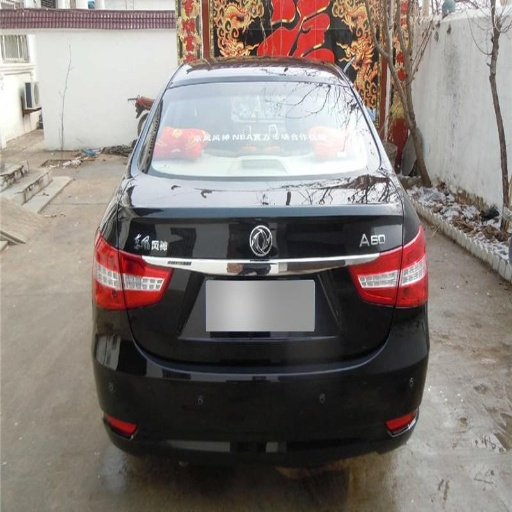back_bumper: (95, 281, 426, 465)
tailgate: (113, 159, 404, 364)
